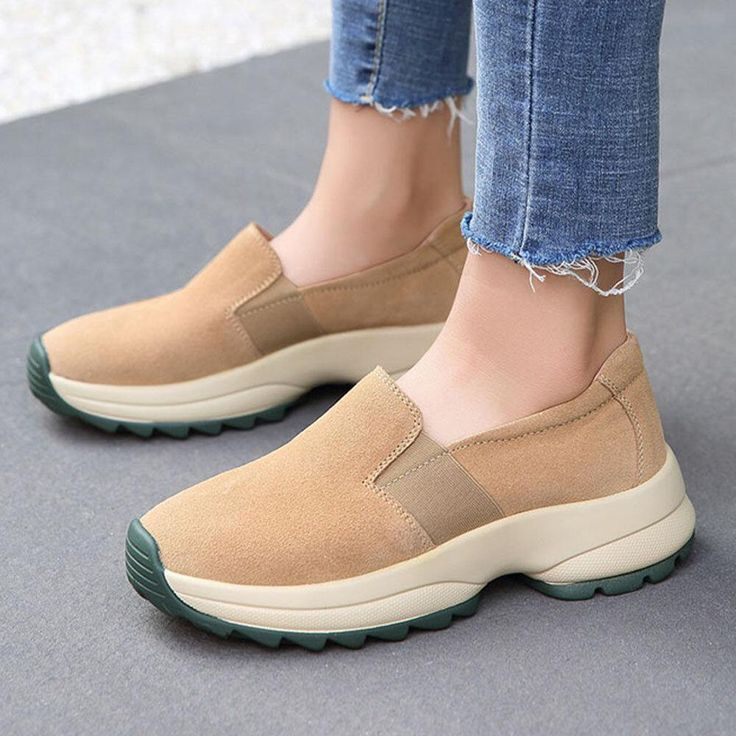gamuza: (40, 198, 667, 586)
